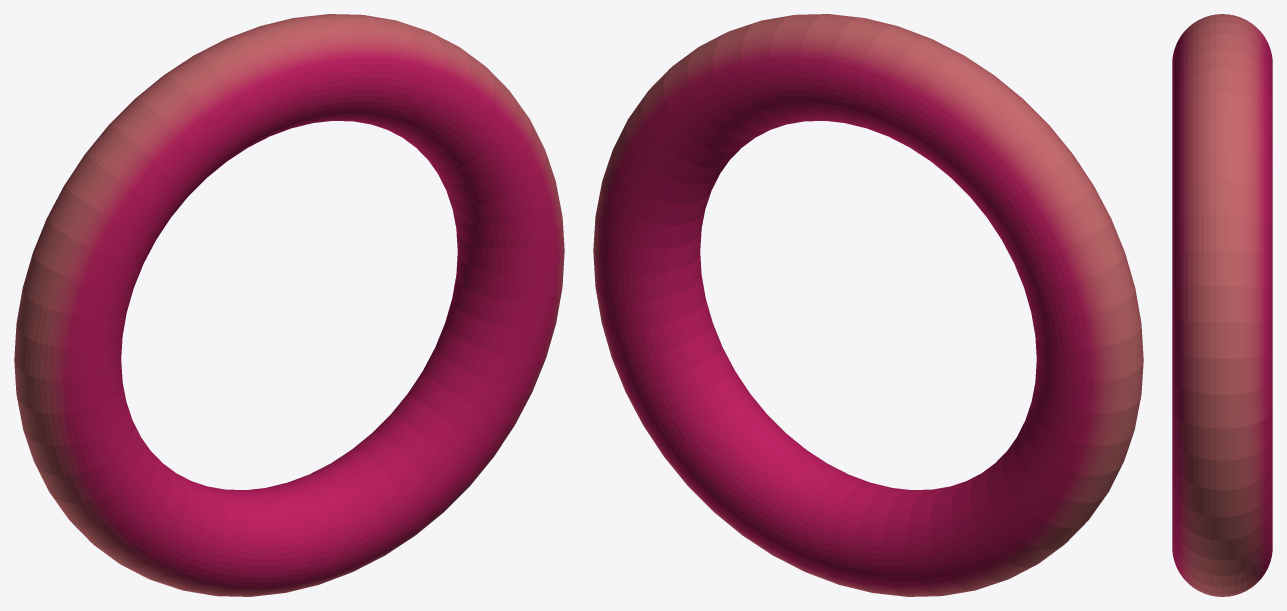
3 renders of one model, left to right at view 1: azimuth 30°, elevation 25°; view 2: azimuth 150°, elevation 25°; view 3: azimuth 270°, elevation 25°, orthographic. The views are drawn at different scales.
Visible parts, largest first — view 1: world; view 2: world; view 3: world.
Part boxes in pixels (x1,y1,x2,y2): world: [14, 14, 564, 596]; world: [593, 14, 1143, 596]; world: [1172, 14, 1272, 596].
Bounding box in the file's own units: 36.27 × 36.2 × 6.25.
